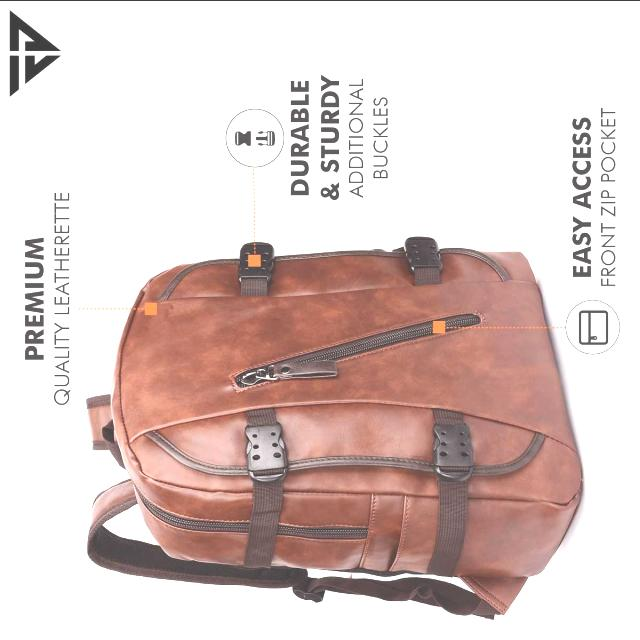backpack: (85, 237, 584, 620)
